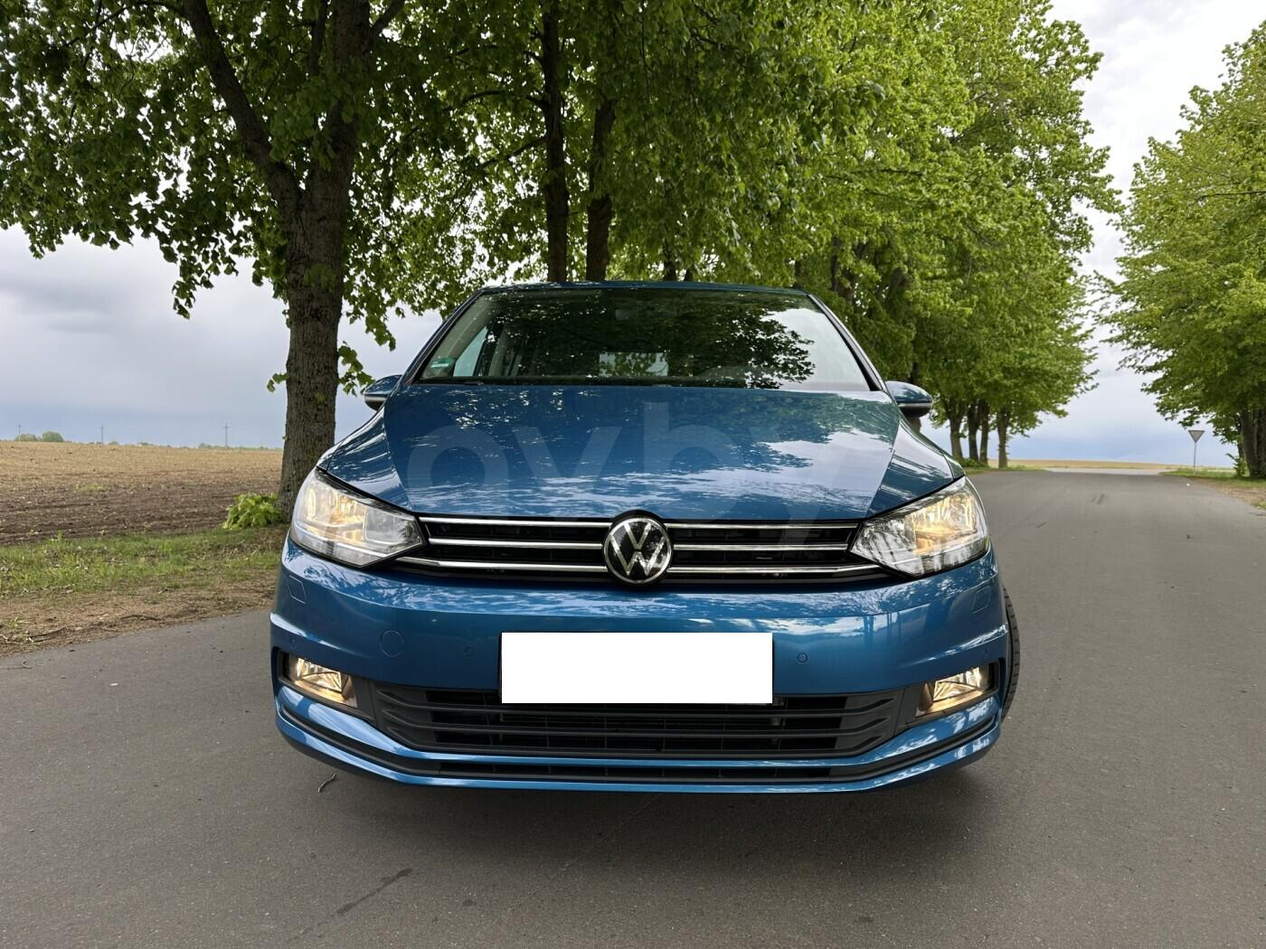Touran_2015: (256, 270, 1023, 817)
